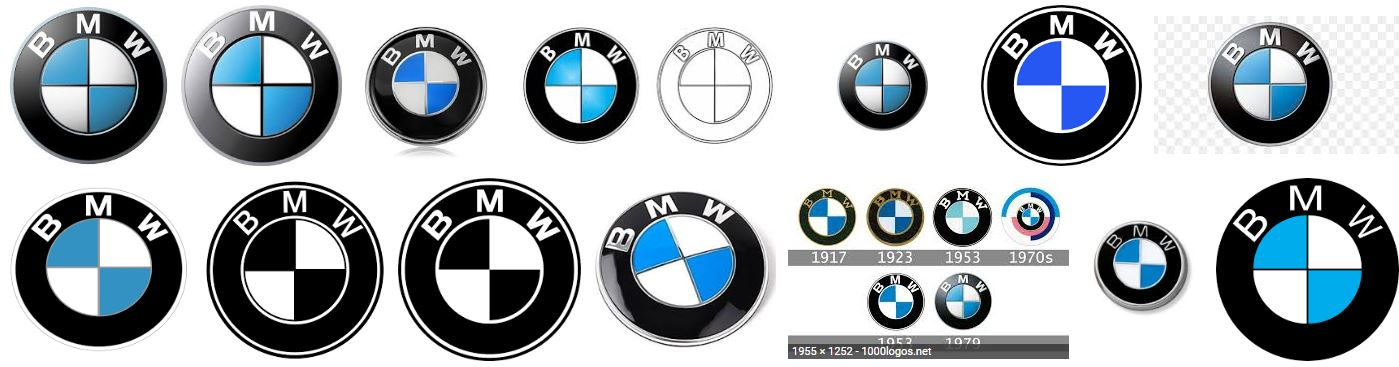bmw: (1214, 172, 1397, 367), (400, 176, 588, 362), (210, 178, 392, 364), (8, 182, 194, 353), (598, 180, 778, 355), (4, 1, 173, 166), (980, 4, 1145, 170), (182, 2, 341, 172), (1198, 13, 1349, 151), (518, 15, 653, 151), (361, 17, 494, 155), (657, 19, 780, 151), (831, 31, 941, 135), (1094, 215, 1194, 319), (790, 184, 863, 251), (935, 266, 1002, 333), (935, 184, 998, 253), (865, 270, 929, 335), (867, 184, 927, 249), (1002, 186, 1063, 247)
